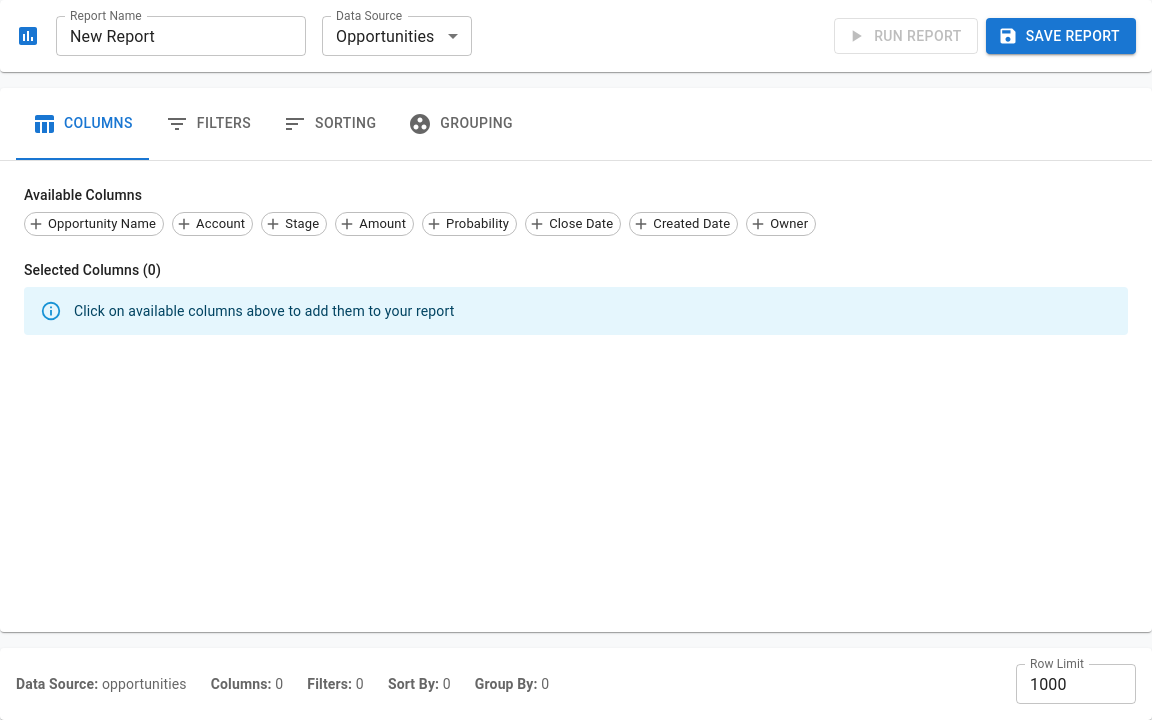
Scenario: ReportDesigner › shows an error when report query is missing
This screenshot has width=1152, height=720.
Replace the text in the field labelled "Report Name" with "Unique Report" at (181, 36), box [56,16,306,56]
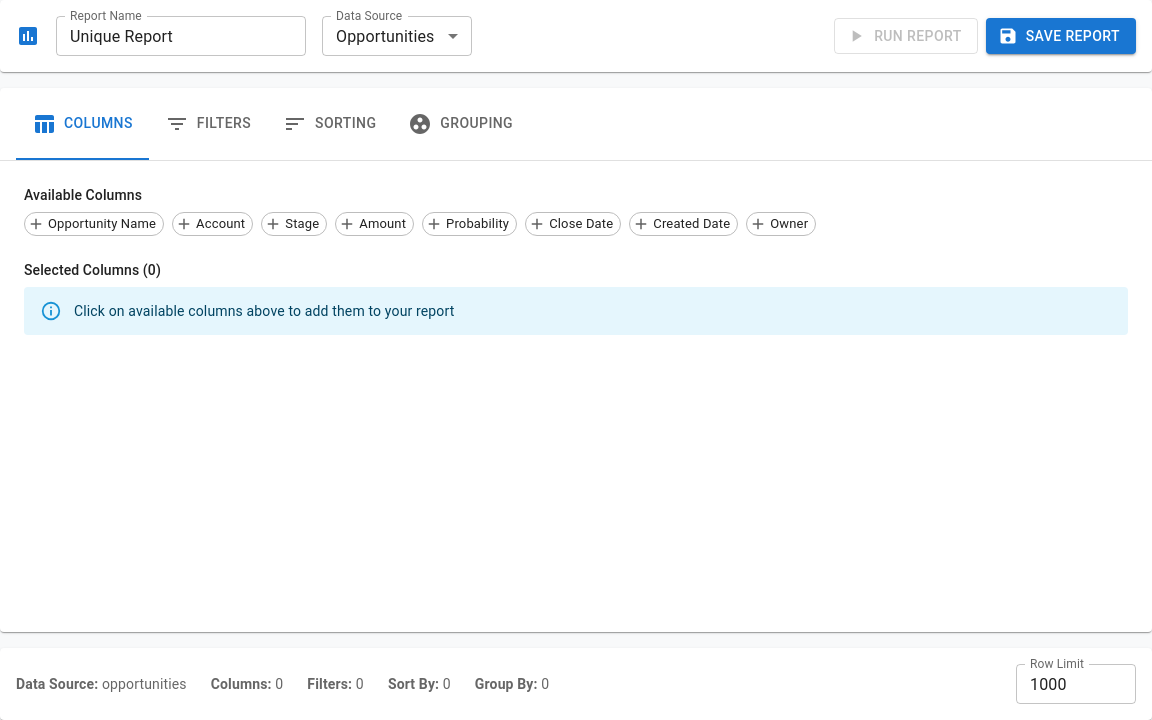
Click the button "Save Report".
click(1061, 36)  # box [986,18,1136,54]
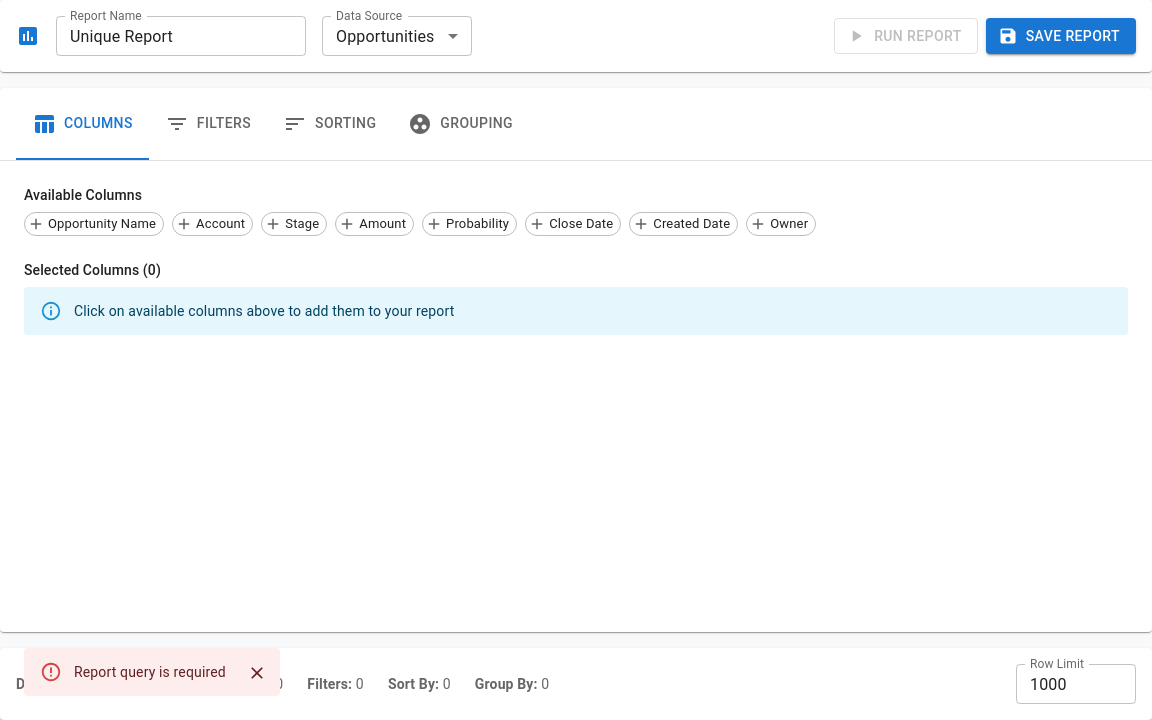
Result: the text "Report query is required" is shown at [74,664,226,680]
